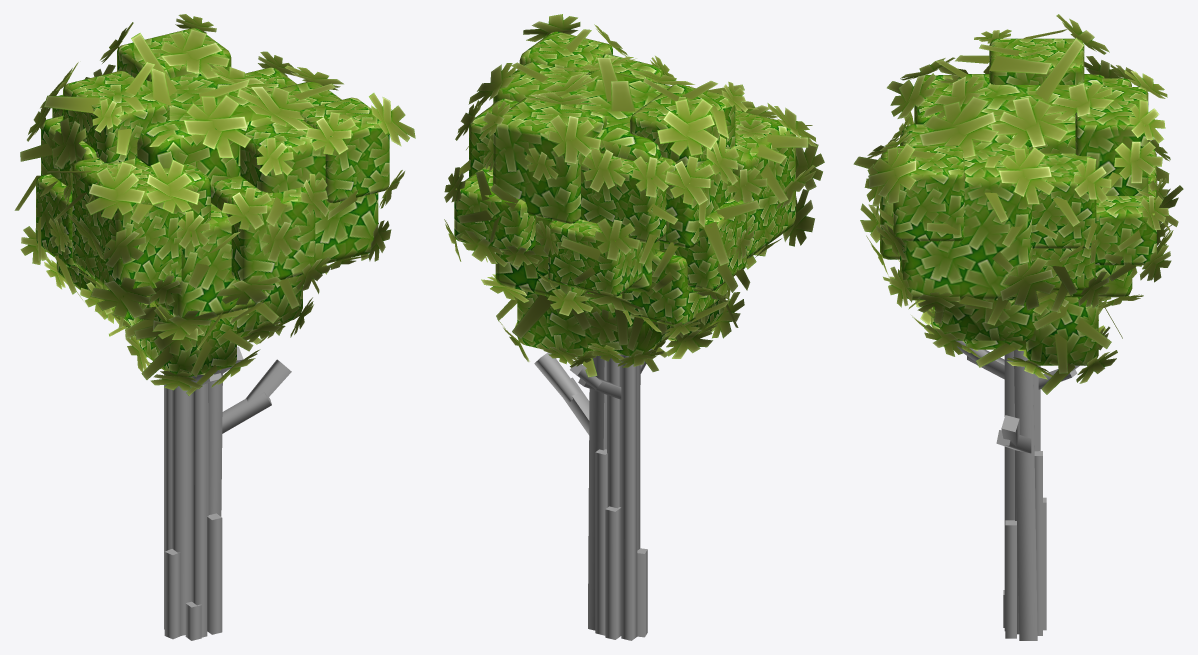
File: SM_Tree_01_D.fbx
3 renders of one model, left to right at view 1: azimuth 30°, elevation 25°; view 2: azimuth 150°, elevation 25°; view 3: azimuth 270°, elevation 25°, orthographic.
Parts seen in each view (by area): view 1: polySurface609; view 2: polySurface609; view 3: polySurface609.
Boxes of the visible parts, <box> form: polySurface609: <box>14,14,415,640</box>; polySurface609: <box>444,14,824,640</box>; polySurface609: <box>853,14,1183,640</box>.
Size of the model in its own units: 247 by 435 by 227.
